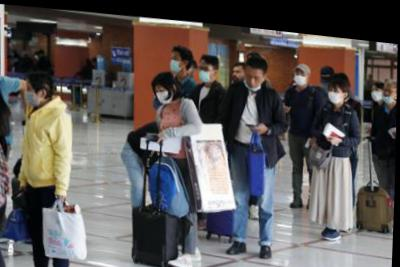NONE: (234, 63, 246, 78)
OK: (26, 82, 40, 107), (157, 81, 173, 102), (200, 60, 214, 79), (329, 78, 343, 97), (171, 51, 183, 70), (296, 64, 308, 80), (372, 78, 384, 94)
WRONG: (246, 66, 264, 85), (384, 77, 397, 95)
